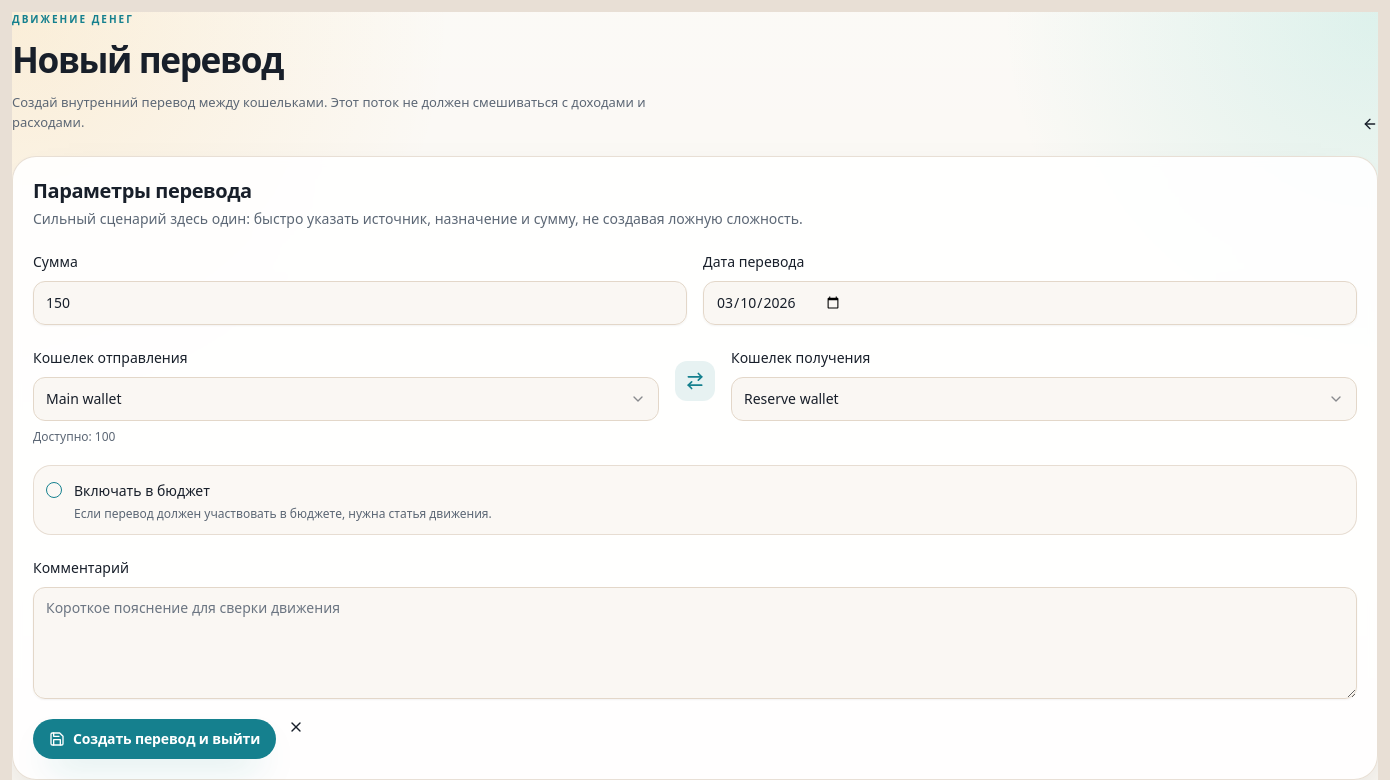
Scenario: shared forms › blocks a transfer when the requested amount exceeds the available balance
Click the button "Создать перевод и выйти" at [155, 739], box left=33, top=719, right=276, bottom=759
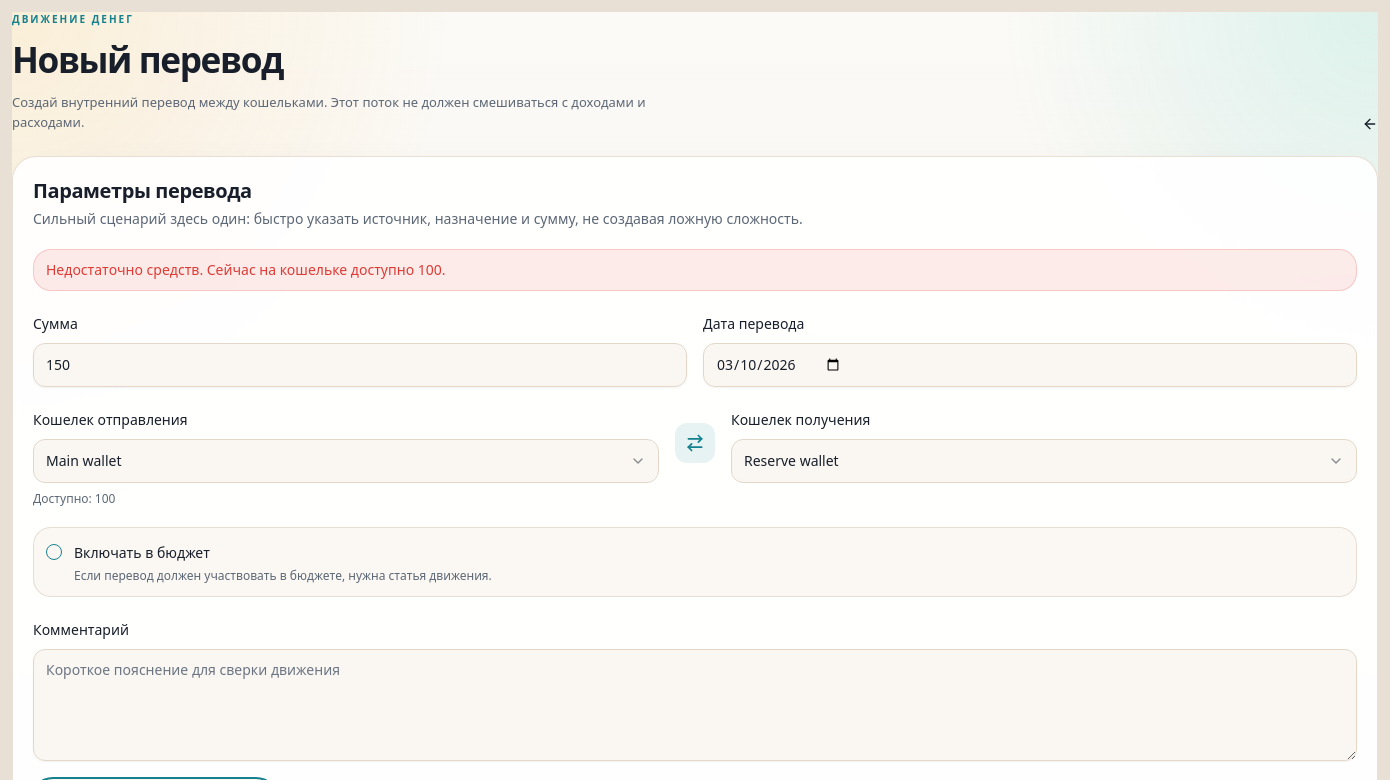
Result: the text "Недостаточно средств. Сейчас на кошельке доступно 100." is shown at left=33, top=249, right=1357, bottom=291
